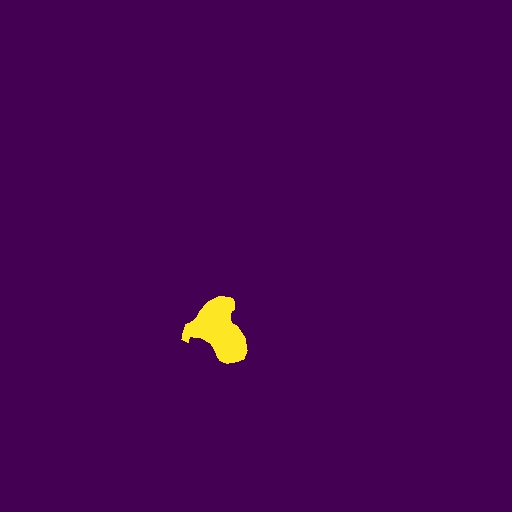Menigiomia_tumour: (181, 296, 248, 364)
